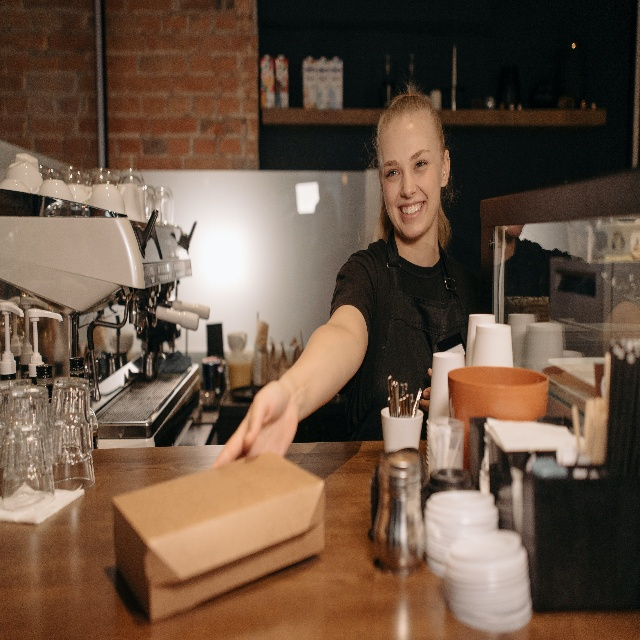Sin_guantes: (213, 380, 298, 467)
